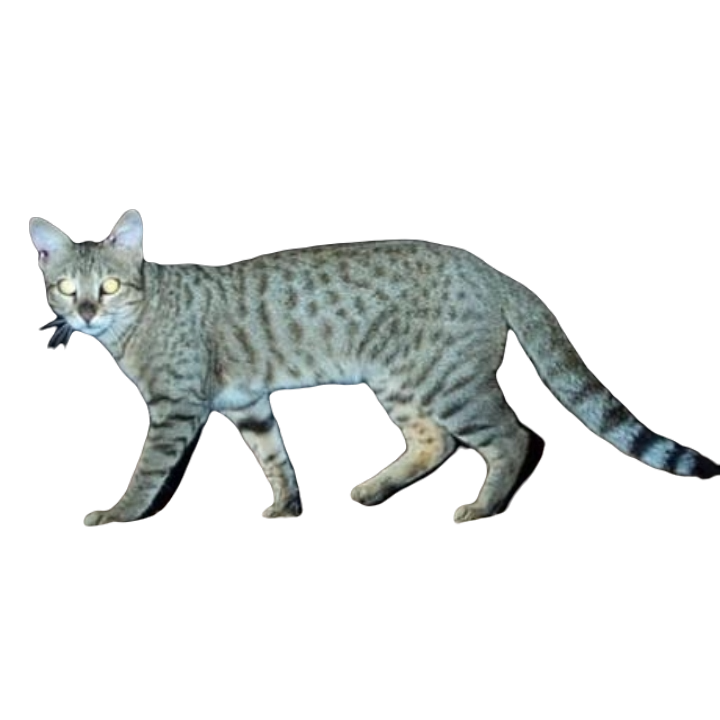Cat: (16, 212, 719, 525)
